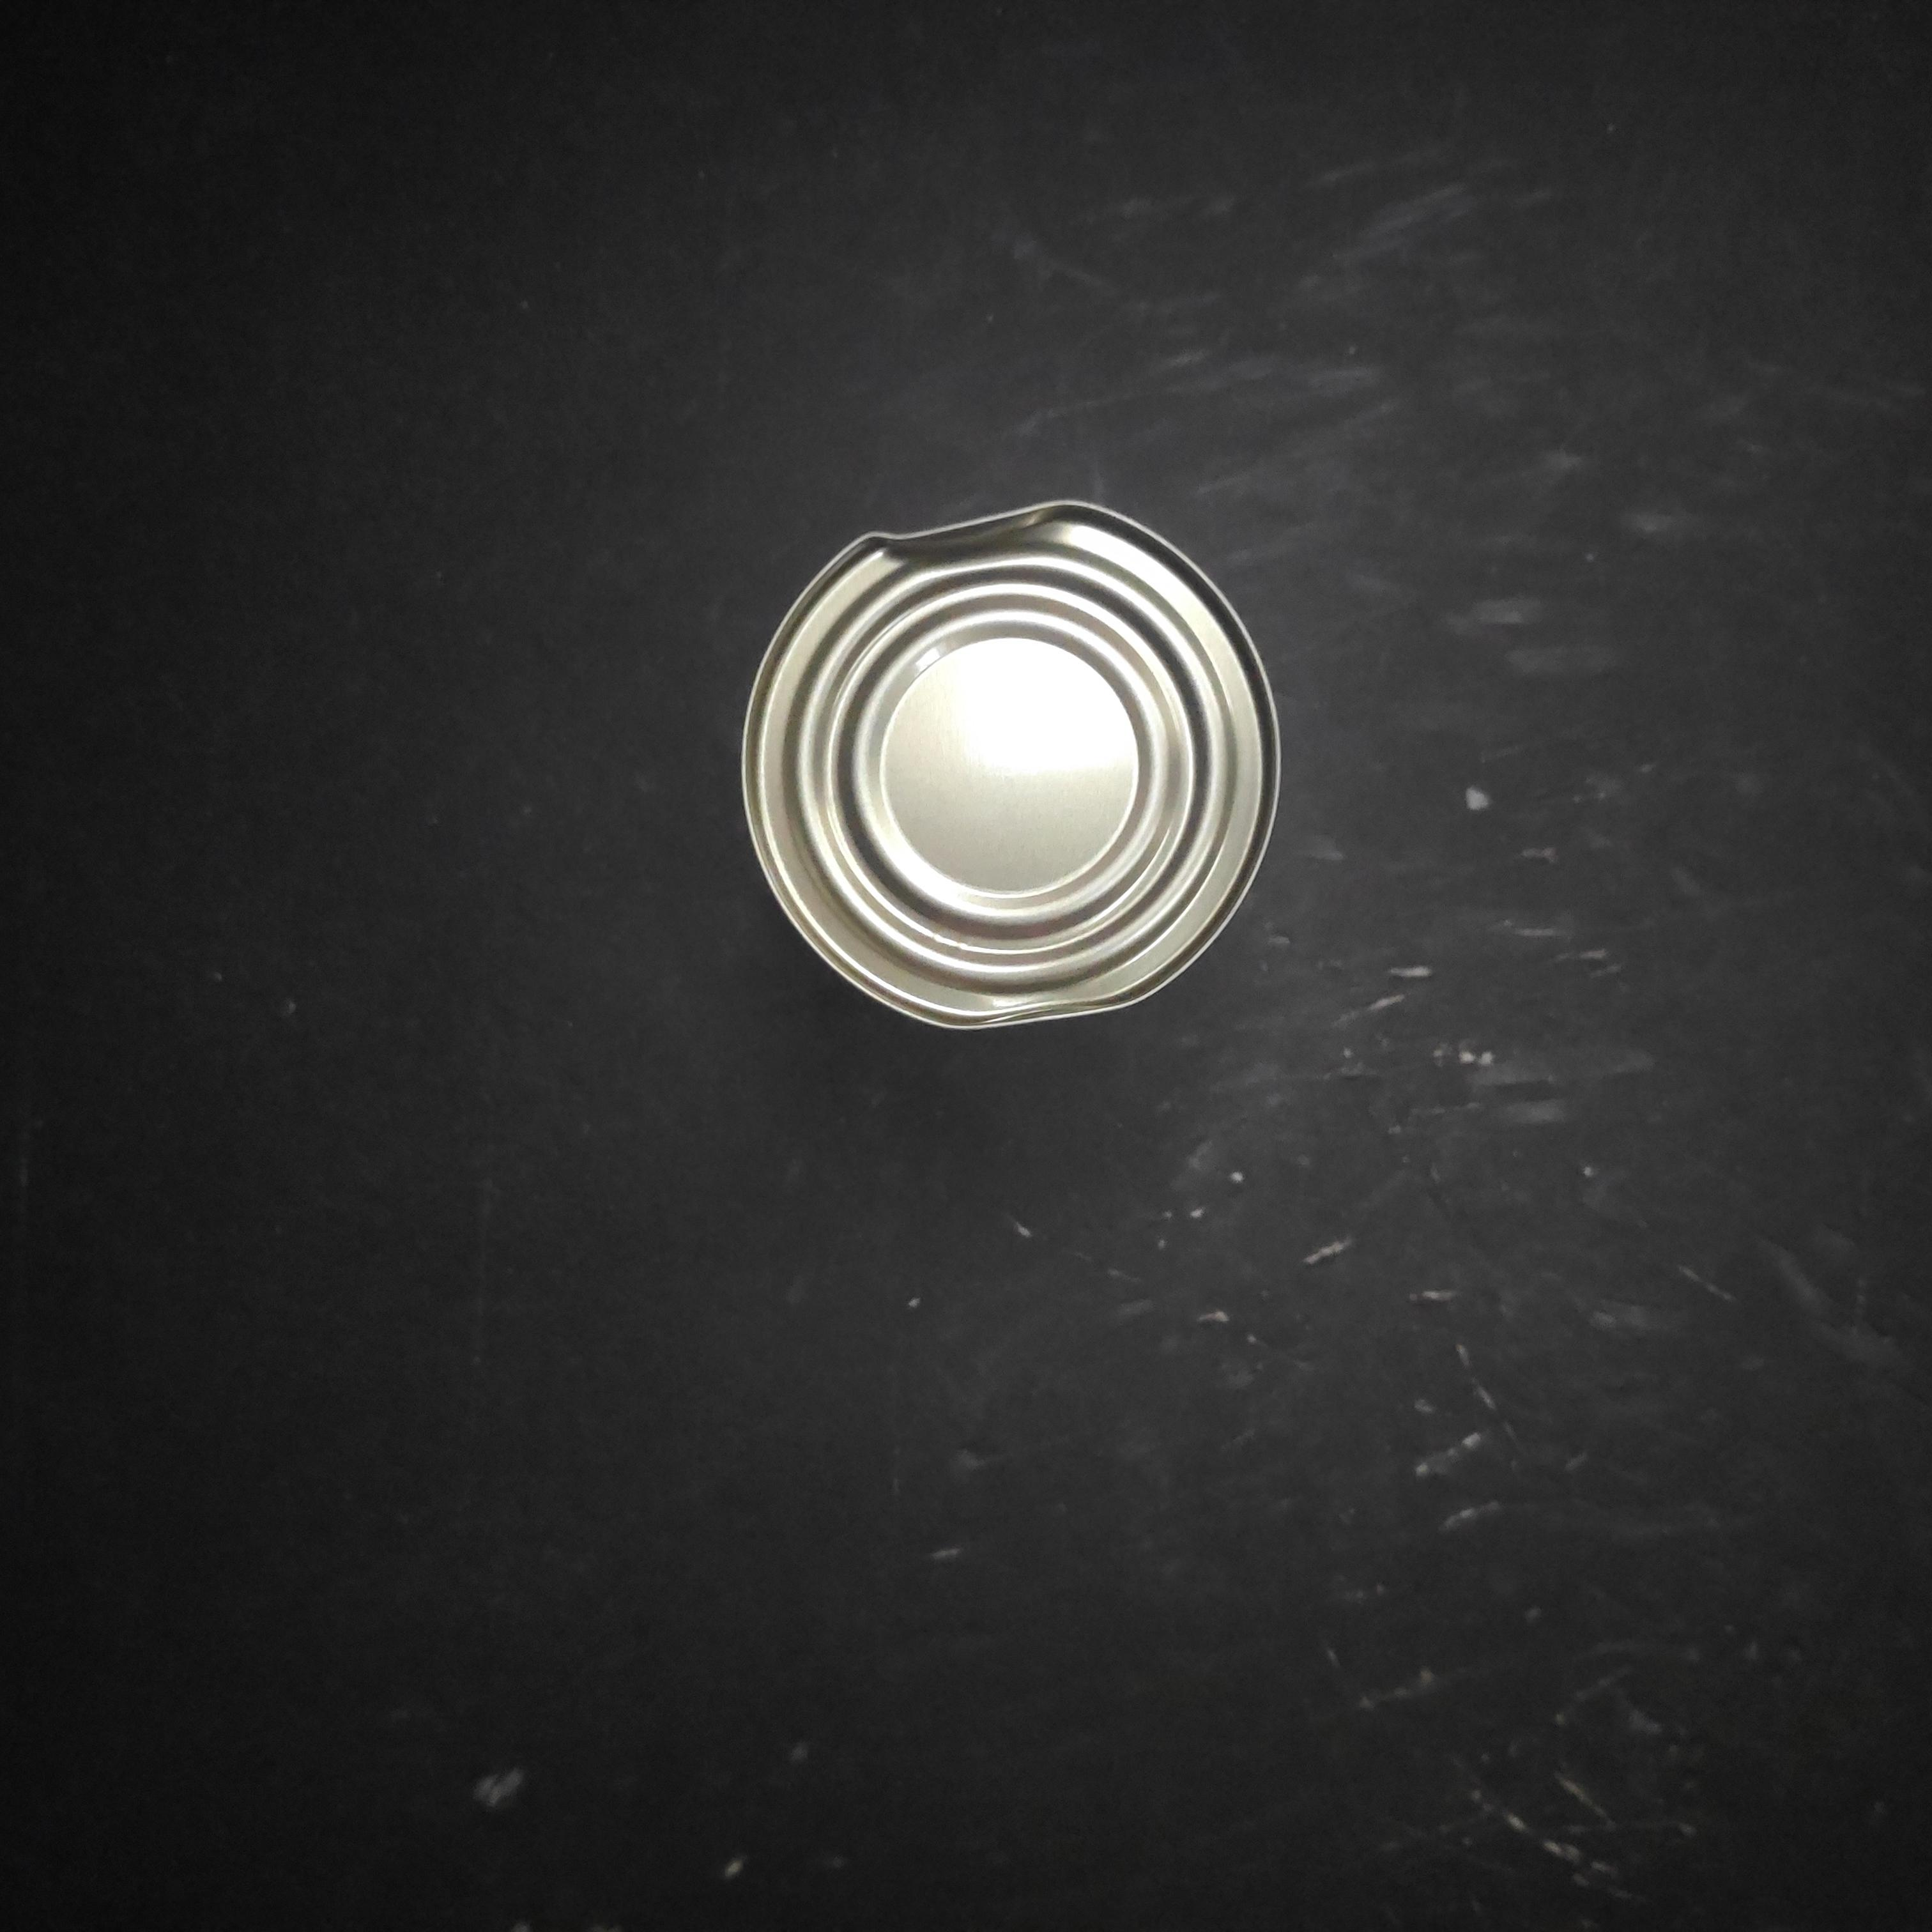Minor Defect: (637, 888, 1207, 1447)
